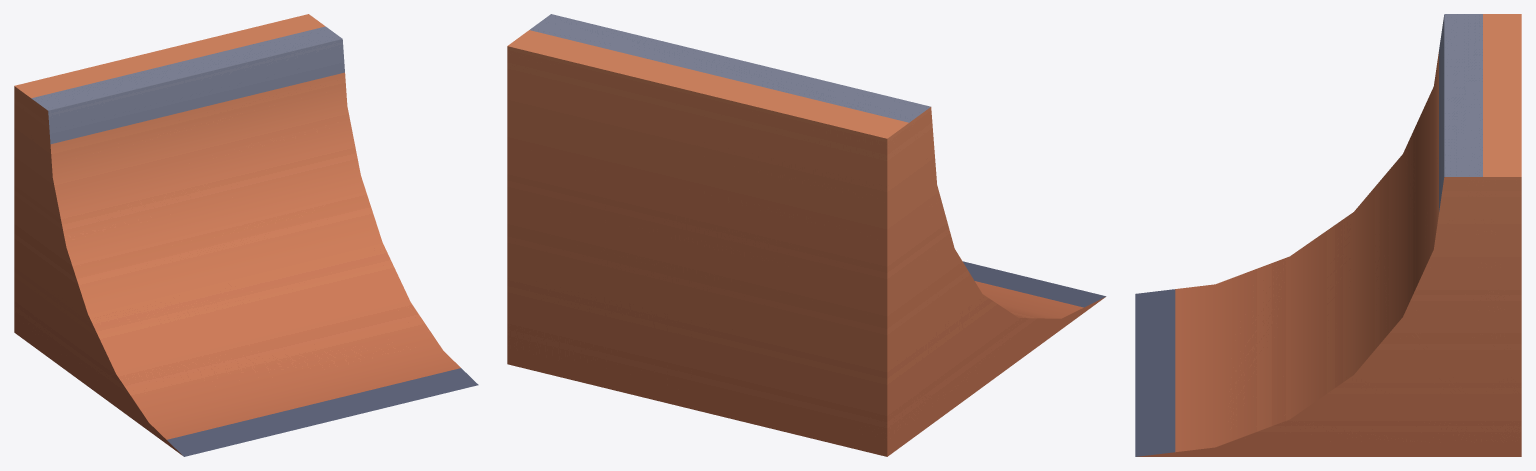
Rendered from half-pipe.glb.
3 views of the same model, side by side, from view 1: azimuth 30°, elevation 25°; view 2: azimuth 150°, elevation 25°; view 3: azimuth 270°, elevation 25° (orthographic). The views are drawn at different scales.
Visible parts, largest first — view 1: half-pipe; view 2: half-pipe; view 3: half-pipe.
Part boxes in pixels (bbox=[...]): half-pipe: bbox=[14, 14, 478, 456]; half-pipe: bbox=[507, 14, 1106, 456]; half-pipe: bbox=[1135, 14, 1521, 456].
Size of the model in its own units: 1 by 0.8 by 1.
Materials: 1 (1 with a texture image).
